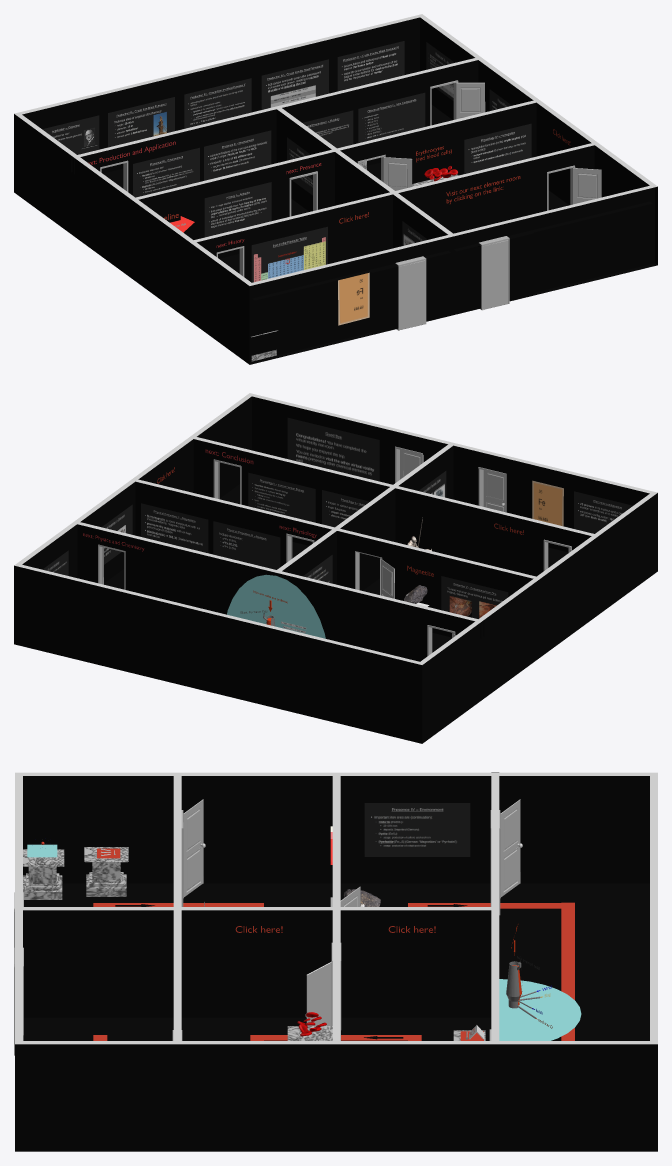
Rendered from Lageplan_Hubs270_Texturen.gltf.
3 renders of one model, top to bottom at view 1: azimuth 30°, elevation 25°; view 2: azimuth 150°, elevation 25°; view 3: azimuth 270°, elevation 25°, orthographic. The views are drawn at different scales.
Parts seen in each view (by area): view 1: FloorAndWalls, PeriodicTable_englisch_bearbeitet, History_Antiquity, Production_BlastFurnaceII, Production_BlastFurnaceIII, Production_BlastFurnaceIV, ChemicalPropertiesI_IronCompounds, PhysiologyIV_Hemoglobin, PresenceII, Production_BlastFurnace, PresenceIII, Door.R6.001 (+8 smaller); view 2: FloorAndWalls, GoodBye, FloorCircle.001, PhysiologyII_HumanBeings, PhysicalPropertiesII_Magnetism, PhysicalPropertiesII_Isotopes, PresenceV_Fortuna, ElectronicConfiguration, PhysiologyI_Overview, Door.Entrance, PhysicalPropertiesI_Overview, Door.R2; view 3: FloorAndWalls, PresenceIV, FloorCircle, Door.R1, Door.R3, Introduction:Pedestal.Nail, Introduction:Pedestal.Bohr, Plane.014, Door.R6, Plane.022, Physiology:Pedestal.Erythrocytes.
Boxes of the visible parts, box(x1,y1,x2,y2) form: FloorAndWalls: box(14, 14, 657, 364); PeriodicTable_englisch_bearbeitet: box(251, 226, 327, 282); History_Antiquity: box(204, 182, 271, 237); Production_BlastFurnaceII: box(184, 78, 251, 128); Production_BlastFurnaceIII: box(261, 59, 328, 109); Production_BlastFurnaceIV: box(337, 41, 404, 91); ChemicalPropertiesI_IronCompounds: box(358, 92, 425, 142); PhysiologyIV_Hemoglobin: box(464, 123, 531, 173); PresenceII: box(204, 130, 271, 180); Production_BlastFurnace: box(108, 97, 174, 147); PresenceIII: box(133, 147, 199, 197); Door.R6.001: box(483, 240, 508, 309); FloorAndWalls: box(14, 393, 657, 743); GoodBye: box(287, 418, 379, 481); FloorCircle.001: box(227, 574, 325, 638); PhysiologyII_HumanBeings: box(248, 472, 315, 522); PhysicalPropertiesII_Magnetism: box(141, 503, 208, 552); PhysicalPropertiesII_Isotopes: box(213, 521, 280, 569); PresenceV_Fortuna: box(441, 576, 508, 618); ElectronicConfiguration: box(574, 491, 632, 533); PhysiologyI_Overview: box(322, 490, 369, 527); Door.Entrance: box(483, 470, 504, 511); PhysicalPropertiesI_Overview: box(102, 504, 132, 564); Door.R2: box(380, 558, 394, 598); FloorAndWalls: box(15, 772, 657, 1151); PresenceIV: box(364, 803, 470, 856); FloorCircle: box(499, 979, 581, 1040); Door.R1: box(183, 799, 205, 898); Door.R3: box(500, 799, 522, 898); Introduction:Pedestal.Nail: box(84, 847, 128, 896); Introduction:Pedestal.Bohr: box(23, 849, 64, 899); Plane.014: box(561, 902, 574, 1040); Door.R6: box(305, 962, 331, 1025); Plane.022: box(421, 903, 565, 908); Physiology:Pedestal.Erythrocytes: box(287, 1026, 332, 1040).
Size of the model in its own units: 16.23 by 3.19 by 16.23.
61 materials, 34 textured.
